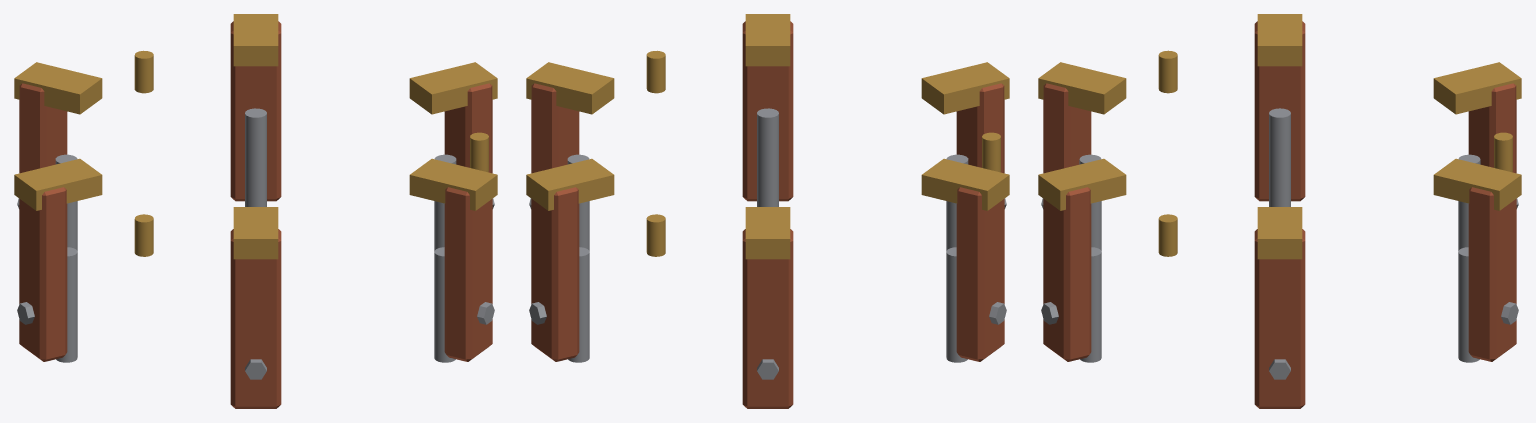
The model's file is collar_latch.obj.
3 renders of one model, left to right at view 1: azimuth 30°, elevation 25°; view 2: azimuth 150°, elevation 25°; view 3: azimuth 270°, elevation 25°, orthographic.
Parts seen in each view (by area): view 1: collar_latch; view 2: collar_latch; view 3: collar_latch.
Boxes of the visible parts, x1,y1,x2,y2 form: collar_latch: (14, 14, 497, 408); collar_latch: (526, 14, 1009, 408); collar_latch: (1038, 14, 1521, 408).
Bounding box in the file's own units: 1.7 × 0.645 × 1.52.
